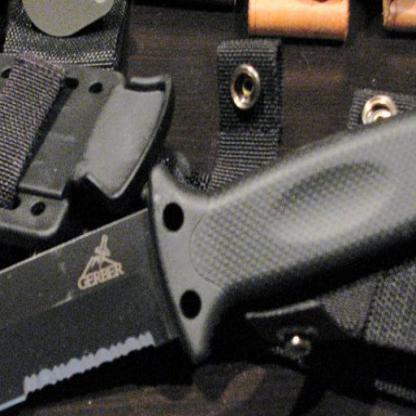knife: (0, 71, 415, 415), (0, 0, 416, 110)
